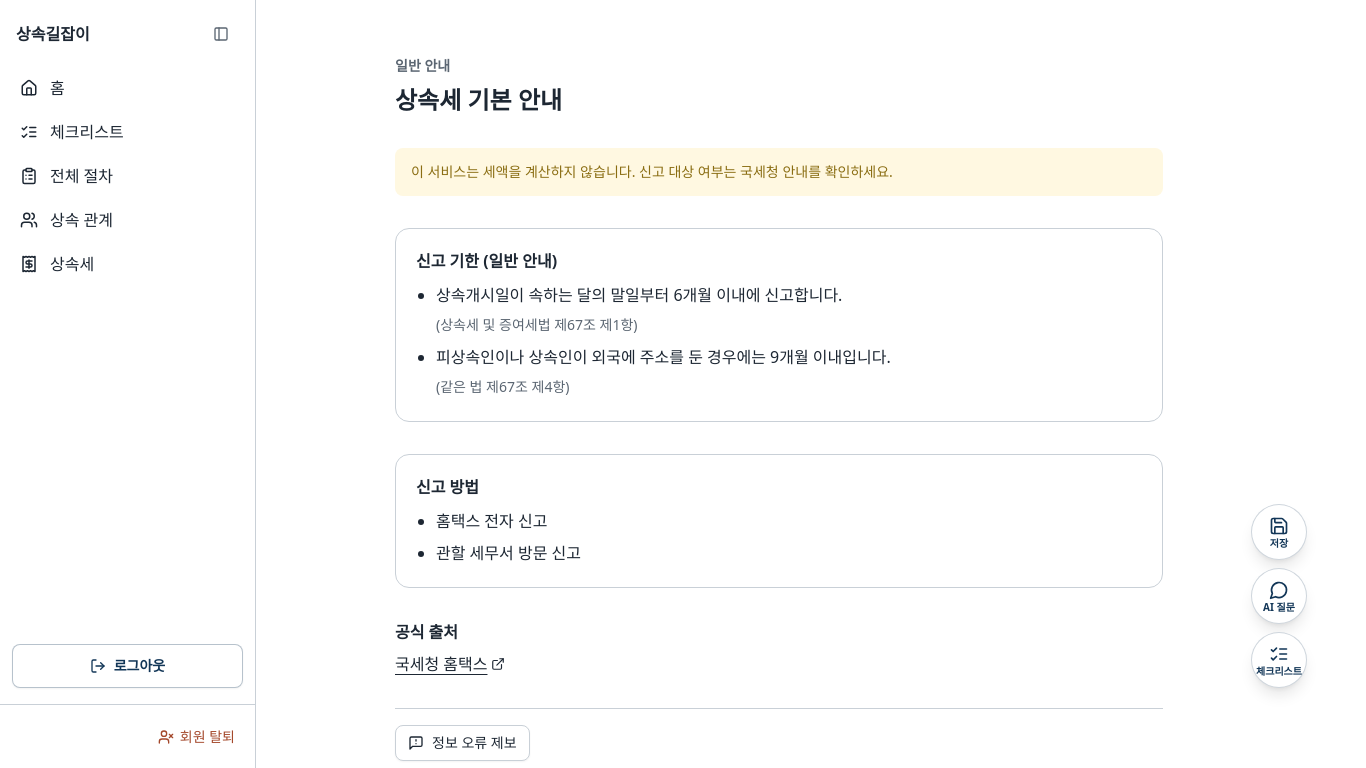
Test: 사이드바 계정 칸 › 로그인 후 웹 사이드바에는 [로그아웃]·[회원 탈퇴]만 있고, 탈퇴는 기존 확인 창을 연다
Check: the button "로그아웃" is shown, box top-left (12, 644), bottom-right (243, 688)
Check: the button "로그인" is not shown
Click the button "회원 탈퇴" at (196, 736), box top-left (150, 714), bottom-right (243, 758)
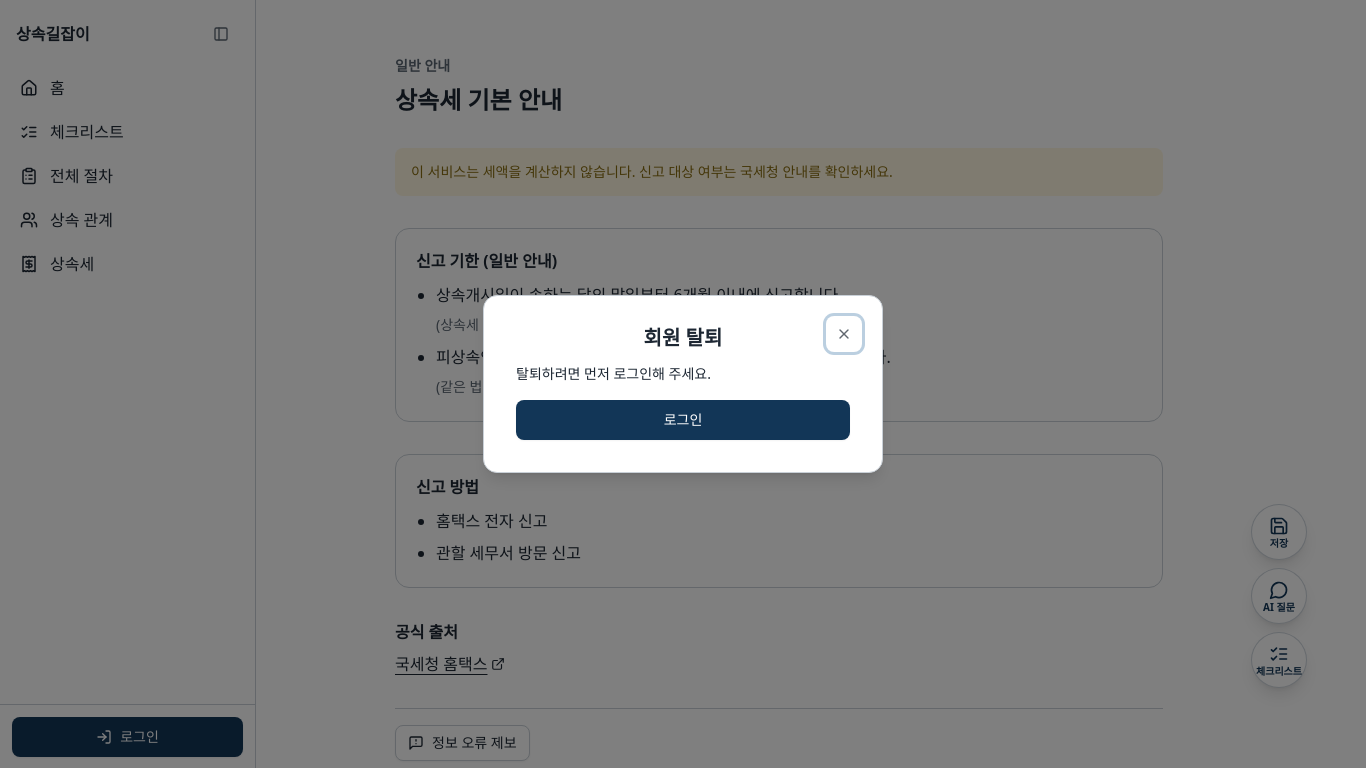
Check: the dialog "회원 탈퇴" is shown, box top-left (483, 295), bottom-right (883, 473)
